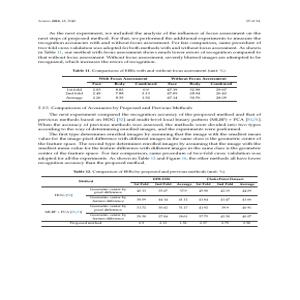table: (40, 175, 258, 228), (58, 75, 238, 104)
text: (36, 105, 263, 165), (37, 29, 263, 64)
